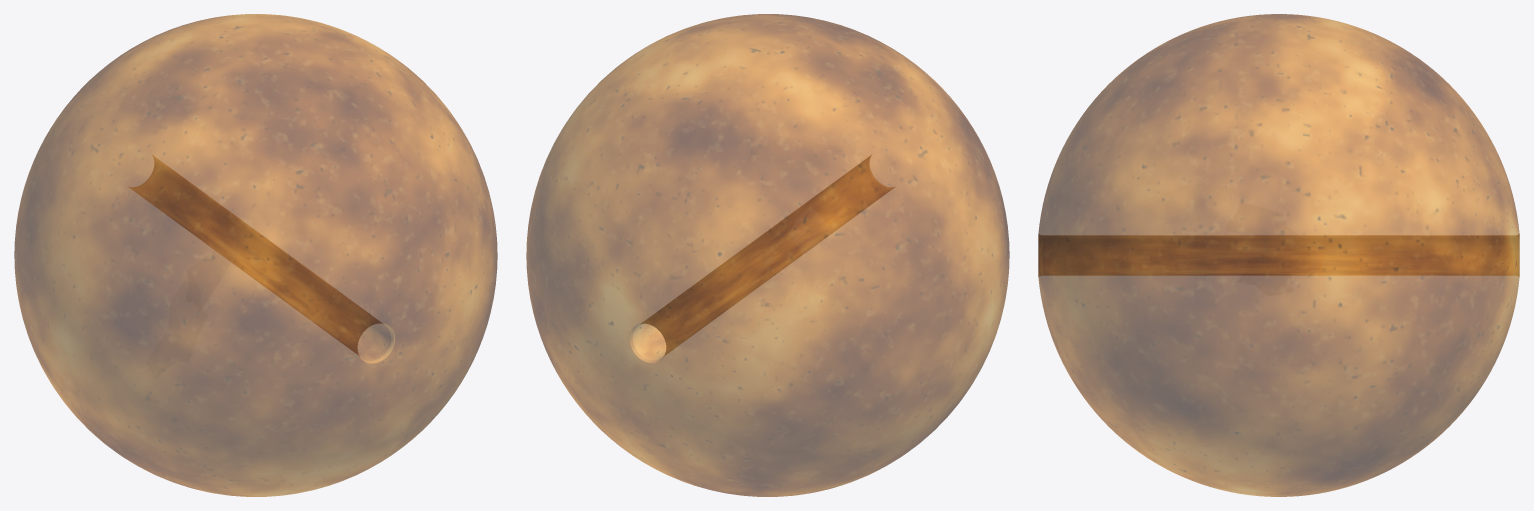
The model's file is baltic-amber-12mm.glb.
The picture shows the model from 3 angles, left to right: view 1: azimuth 30°, elevation 25°; view 2: azimuth 150°, elevation 25°; view 3: azimuth 270°, elevation 25°; orthographic projection.
Parts seen in each view (by area): view 1: baltic-amber.001; view 2: baltic-amber.001; view 3: baltic-amber.001.
Boxes of the visible parts, bbox=[...] form: baltic-amber.001: bbox=[14, 14, 497, 496]; baltic-amber.001: bbox=[526, 14, 1009, 496]; baltic-amber.001: bbox=[1038, 14, 1519, 496].
Size of the model in its own units: 0.012 by 0.012 by 0.012.
2 materials, 1 textured.
